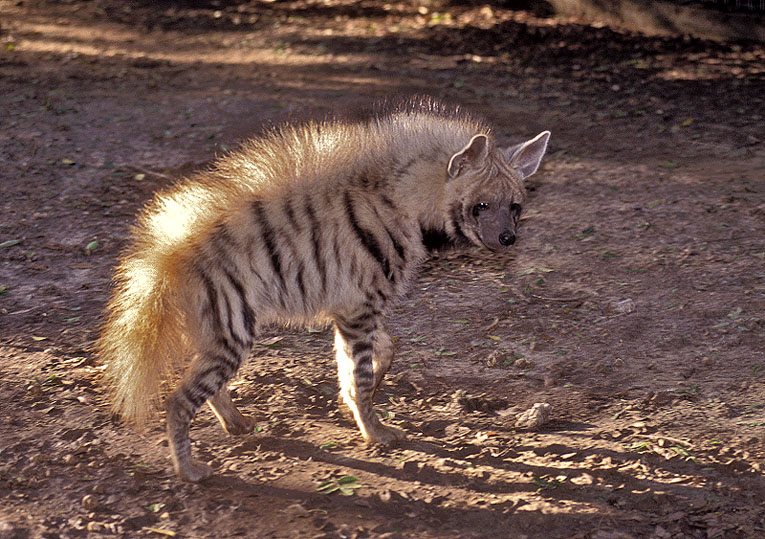hyena: (119, 87, 560, 489)
